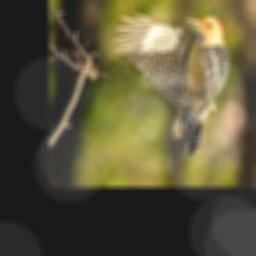Woodpecker: (114, 14, 231, 155)
